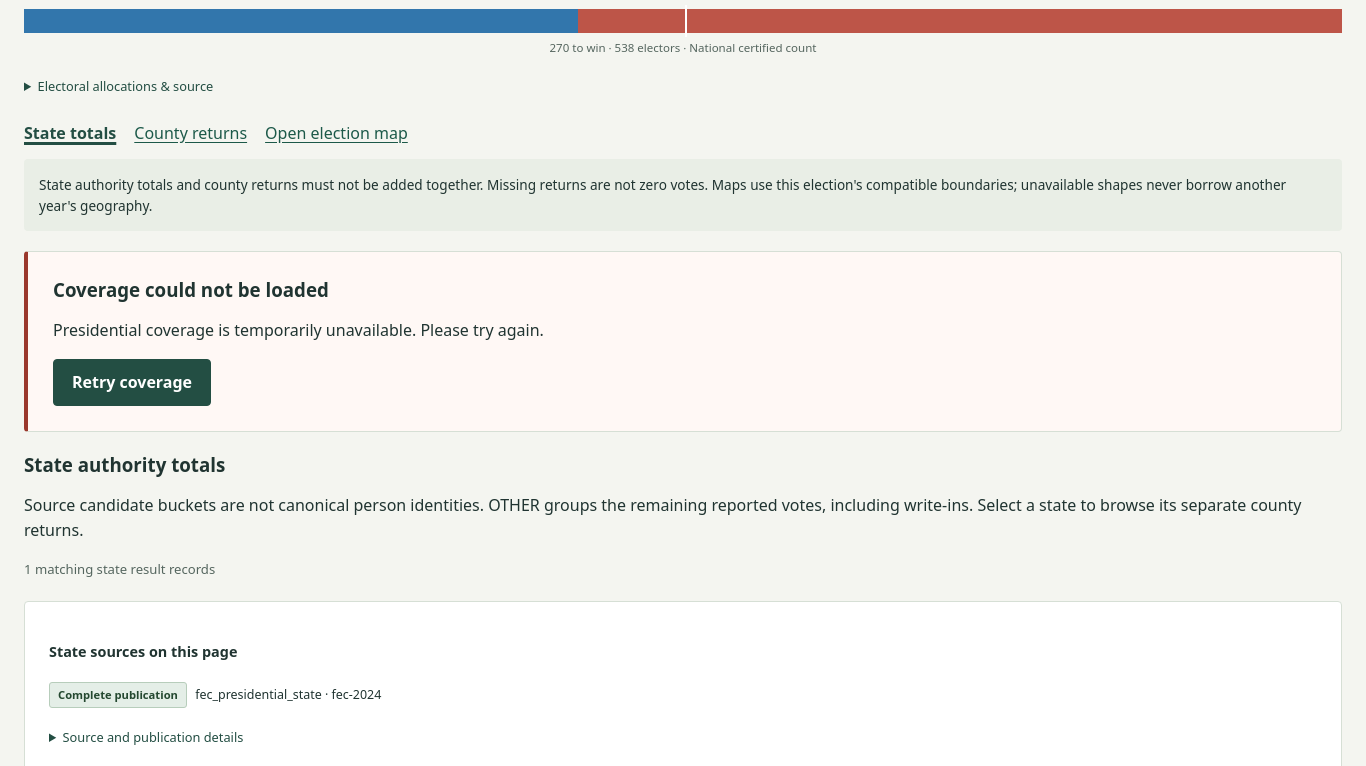
presidential coverage, sources and missing data › announces independent loading and retryable coverage errors while showing returns
(page scrolled)
Expected: the message shows "Coverage could not be loaded", [53,277,329,302]
What coordinates should you click on to do the following:
click the button "Retry coverage"
I would click on:
 (132, 383)
Its box is [53,359,211,406].
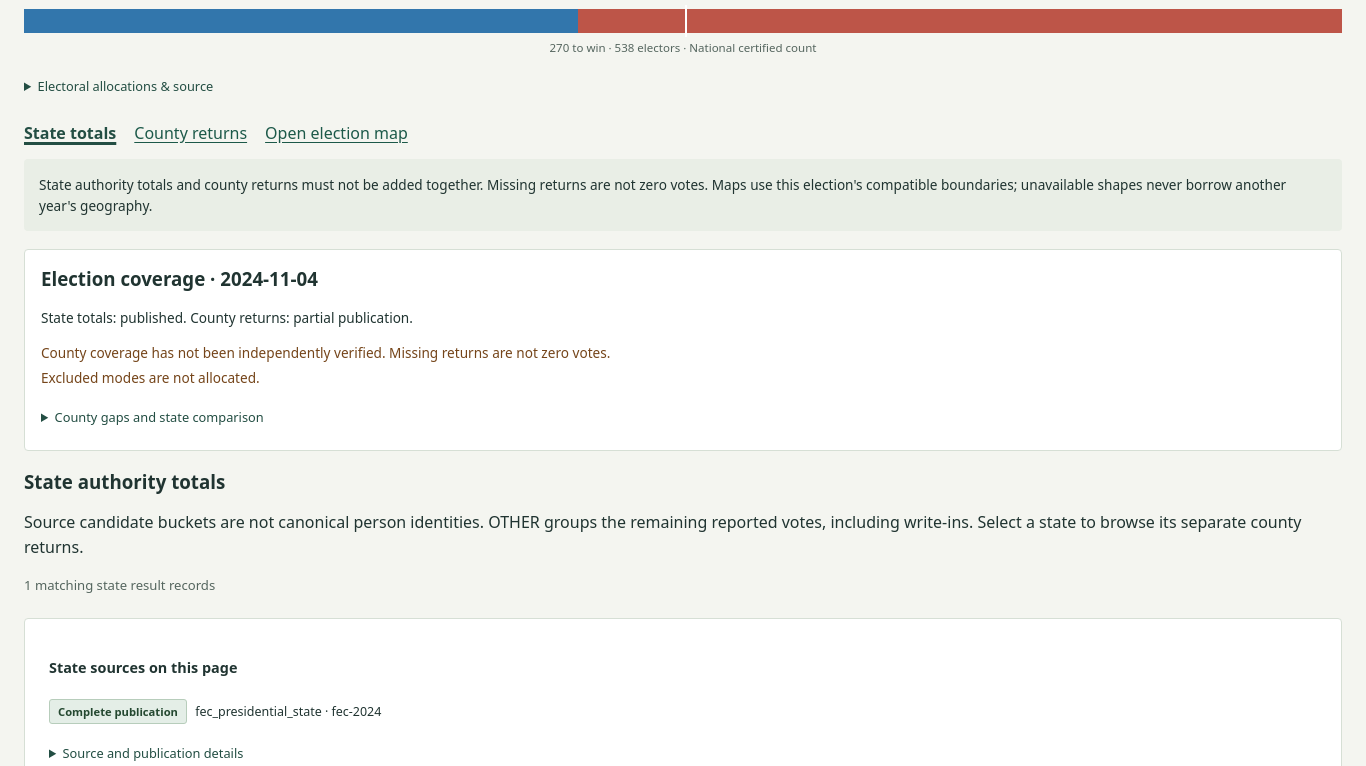
Now the text "County returns: partial publication" is shown, box [41,308,413,327]
